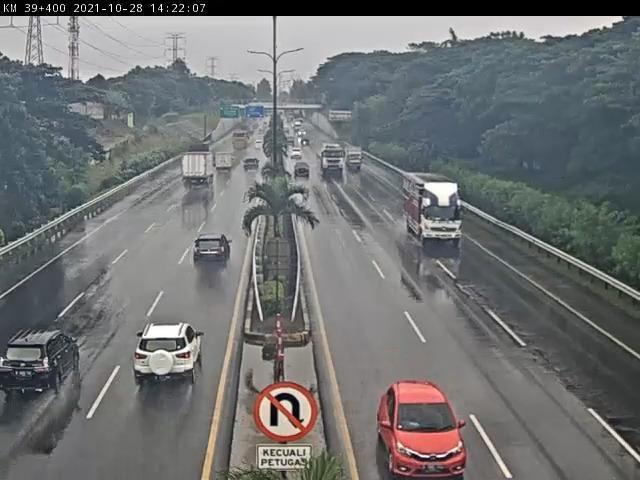car: (377, 381, 470, 480), (2, 328, 85, 396), (130, 322, 201, 386), (192, 233, 234, 266), (243, 157, 261, 174)
truck: (404, 171, 467, 245), (181, 152, 217, 187), (215, 154, 237, 177)
